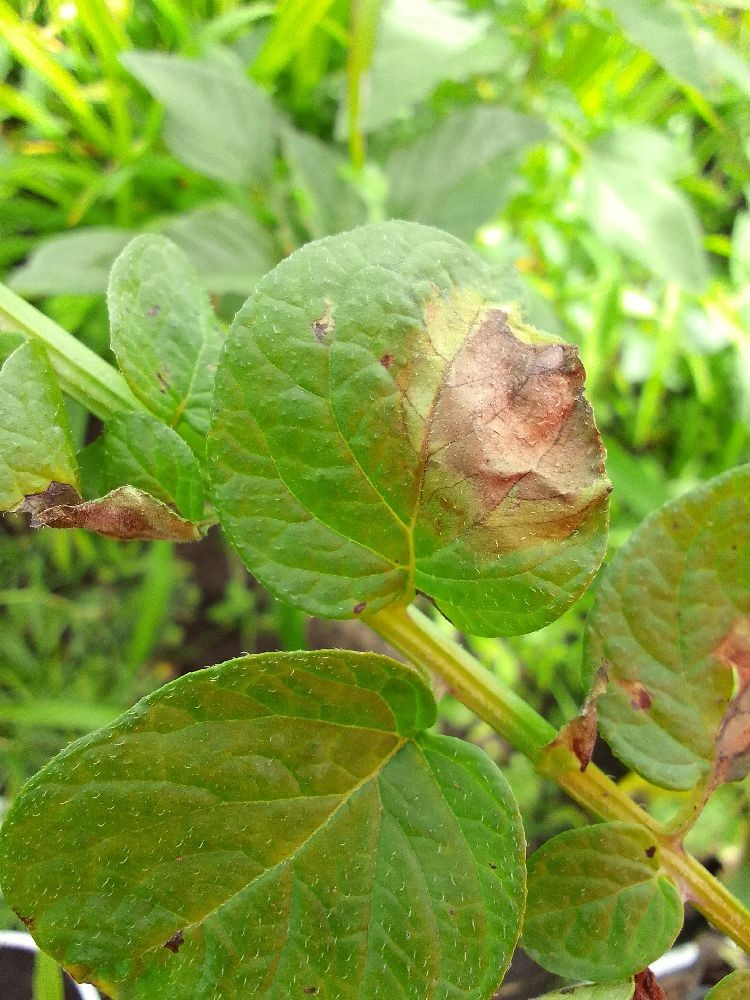late_blight: (0, 422, 544, 871), (526, 578, 749, 999), (350, 281, 647, 585)
